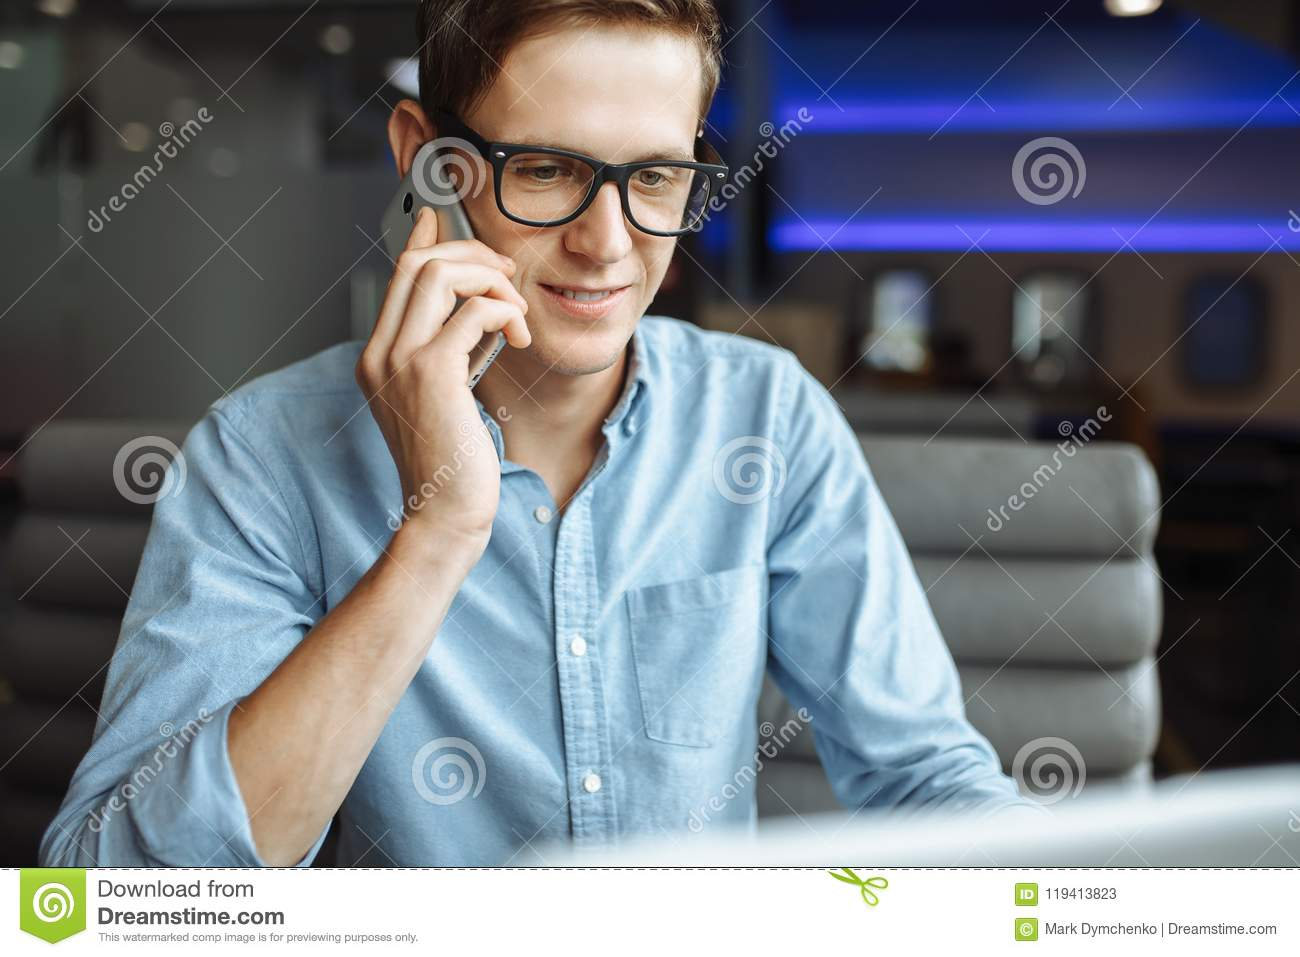phone: (380, 140, 509, 393)
talk: (353, 104, 697, 591)
